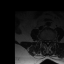CCS_stenosis: (47, 38, 48, 45)
LFS_stenosis: (50, 38, 51, 43)
LLS_normal: (48, 38, 50, 44)
RFS_stenosis: (43, 38, 45, 43)
RLS_stenosis: (45, 38, 46, 43)
